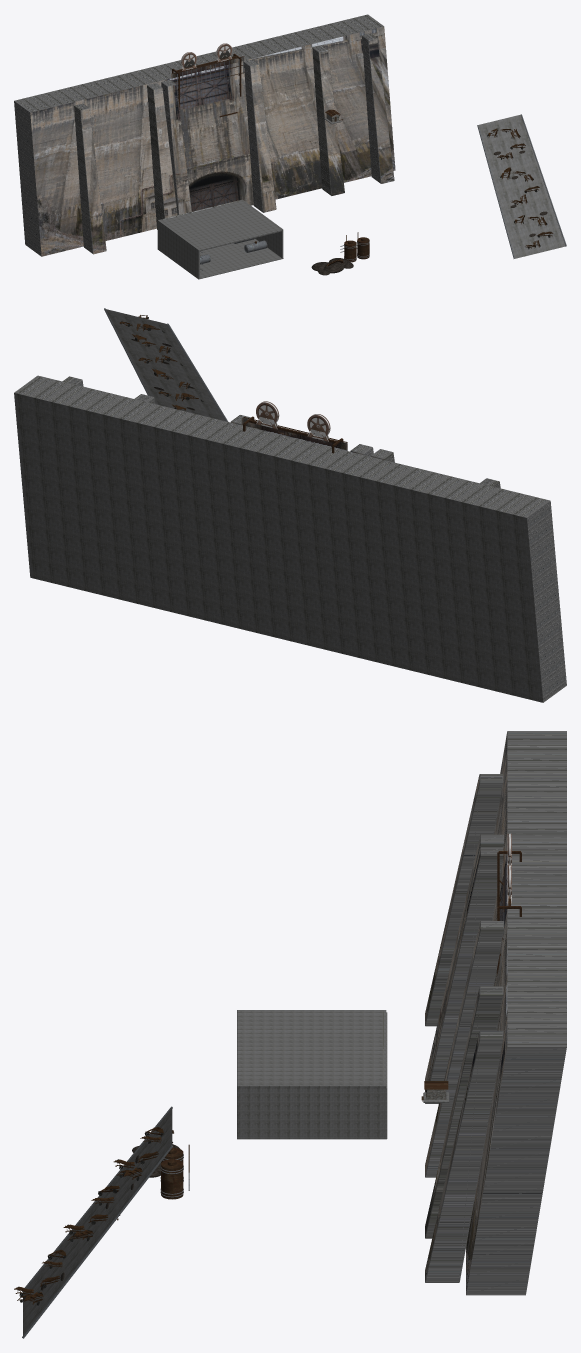
File: dam.glb
The picture shows the model from 3 angles, top to bottom: view 1: azimuth 30°, elevation 25°; view 2: azimuth 150°, elevation 25°; view 3: azimuth 270°, elevation 25°; orthographic projection. The views are drawn at different scales.
Parts seen in each view (by area): view 1: dam:face, dam:spillway, dam-filling-shed-roof, dam-buttress-3, dam-buttress-0, dam-buttress-5, dam-buttress-4, dam-buttress-1, dam-buttress-2, dam:filling-shed, dam-filling-shed-side--1, dam-spillway-retaining-wall-1 (+3 smaller); view 2: dam:face, dam:spillway, dam-spillway-retaining-wall-1, dam-spillway-retaining-wall--1, dam:sea-gate; view 3: dam:face, dam-filling-shed-roof, dam-buttress-5, dam-filling-shed-side-1, dam-buttress-2, dam-buttress-0, dam-buttress-3, dam:spillway, dam-buttress-4, dam-buttress-1, dam-spillway-retaining-wall--1, dam-spillway-retaining-wall-1 (+1 smaller).
Boxes of the visible parts, box(x1,y1,x2,y2) form: dam:face: box(14, 14, 395, 256); dam:spillway: box(483, 116, 556, 256); dam-filling-shed-roof: box(158, 199, 283, 251); dam-buttress-3: box(243, 59, 276, 212); dam-buttress-0: box(74, 103, 106, 254); dam-buttress-5: box(362, 33, 394, 183); dam-buttress-4: box(312, 45, 344, 195); dam-buttress-1: box(147, 83, 177, 229); dam-buttress-2: box(161, 79, 191, 214); dam:filling-shed: box(158, 238, 283, 279); dam-filling-shed-side--1: box(158, 222, 199, 279); dam-spillway-retaining-wall-1: box(516, 114, 565, 248); dam:face: box(14, 375, 566, 702); dam:spillway: box(112, 311, 212, 417); dam-spillway-retaining-wall-1: box(105, 309, 166, 406); dam-spillway-retaining-wall--1: box(160, 322, 225, 421); dam:sea-gate: box(241, 417, 347, 450); dam:face: box(466, 731, 566, 1295); dam-filling-shed-roof: box(237, 1010, 386, 1088); dam-buttress-5: box(425, 1030, 503, 1282); dam-filling-shed-side-1: box(237, 1088, 385, 1138); dam-buttress-2: box(425, 847, 503, 1103); dam-buttress-0: box(425, 774, 503, 1026); dam-buttress-3: box(425, 921, 503, 1177); dam:spillway: box(23, 1112, 172, 1328); dam-buttress-4: box(425, 986, 503, 1238); dam-buttress-1: box(425, 834, 503, 1090); dam-spillway-retaining-wall--1: box(23, 1108, 172, 1298); dam-spillway-retaining-wall-1: box(23, 1141, 172, 1335).
Size of the model in its own units: 171 by 65.78 by 111.
12 materials, 12 textured.
